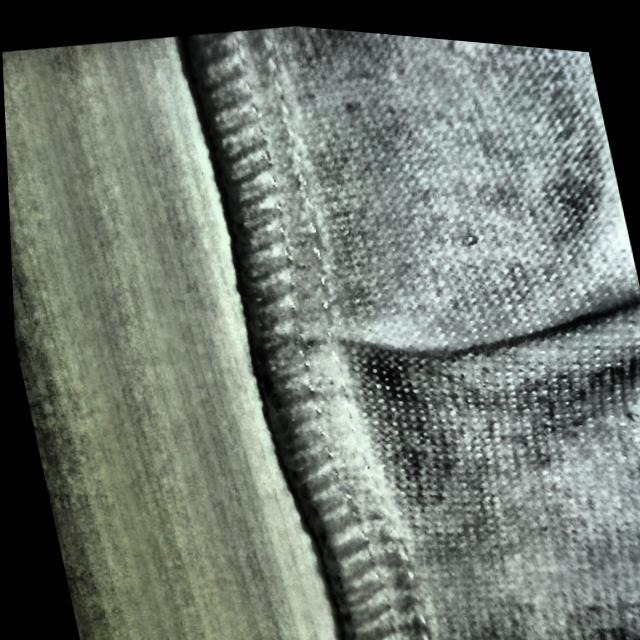seam: (234, 235, 587, 468)
